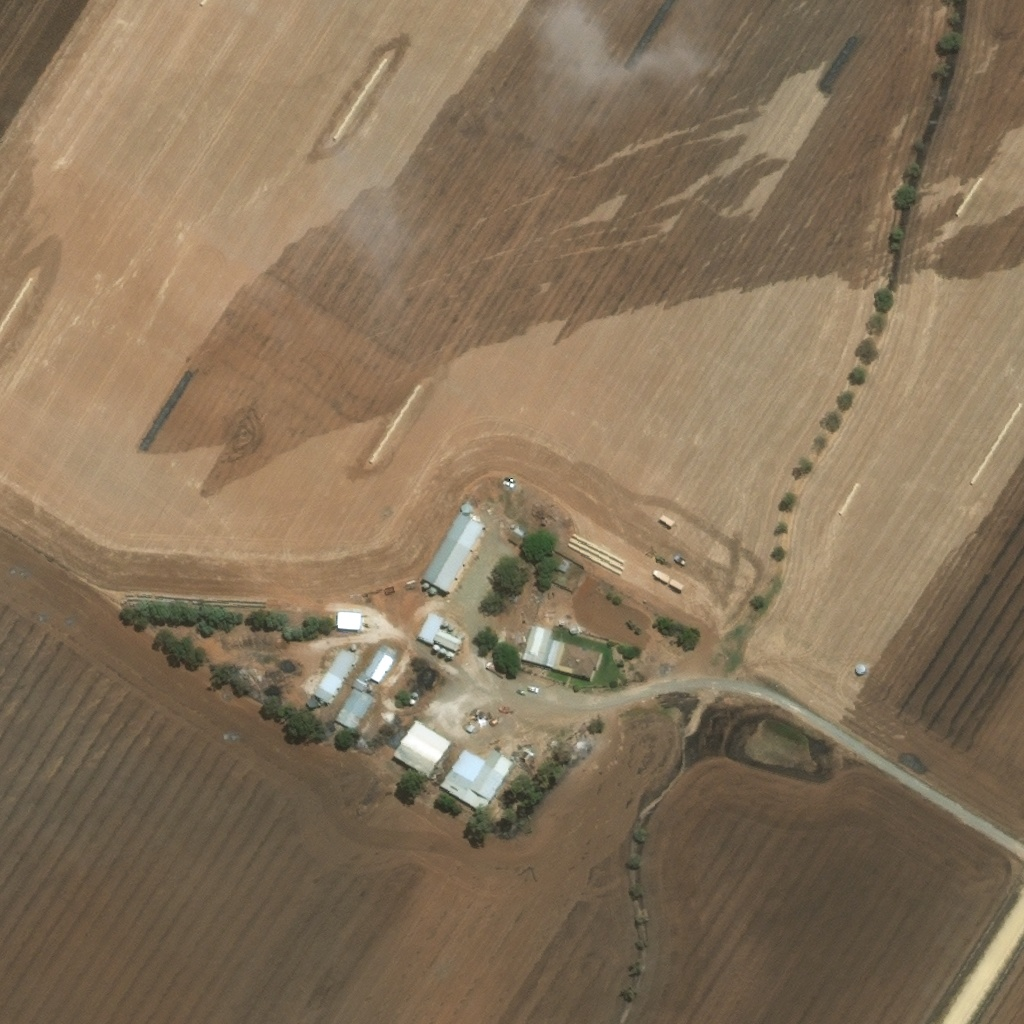0 no-damage: (422, 508, 485, 593), (439, 746, 513, 807), (393, 719, 451, 774), (313, 646, 356, 701), (552, 640, 601, 679), (417, 610, 461, 650), (521, 622, 559, 667), (334, 688, 372, 728), (364, 643, 396, 681), (337, 609, 360, 627), (507, 525, 525, 544), (553, 554, 569, 571), (351, 676, 367, 690), (460, 502, 472, 512), (464, 722, 474, 731), (428, 584, 435, 592), (423, 580, 429, 586), (433, 642, 439, 648), (440, 645, 446, 651), (447, 649, 453, 655), (411, 690, 417, 696), (407, 697, 414, 702)
